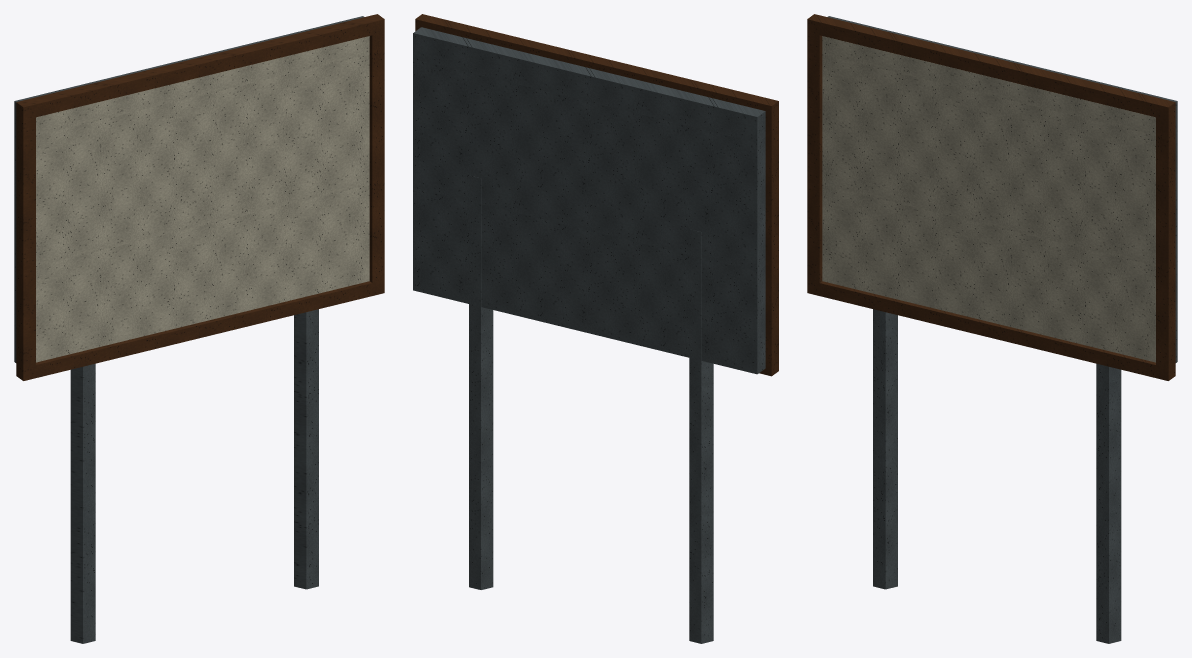
File: PROP-3E7A6A79B8DE_lod2.glb
3 views of the same model, side by side, from view 1: azimuth 30°, elevation 25°; view 2: azimuth 150°, elevation 25°; view 3: azimuth 330°, elevation 25° (orthographic).
Parts seen in each view (by area): view 1: painted_sign_face.011, frame.011, sign_support.011, panel_back.011; view 2: panel_back.011, sign_support.011, frame.011; view 3: painted_sign_face.011, frame.011, sign_support.011, panel_back.011.
Boxes of the visible parts, x1,y1,x2,y2 form: painted_sign_face.011: (36,36,369,362); frame.011: (16,14,384,380); sign_support.011: (70,309,318,643); panel_back.011: (14,16,364,362); panel_back.011: (413,27,765,374); sign_support.011: (469,175,713,643); frame.011: (415,14,778,376); painted_sign_face.011: (822,36,1155,362); frame.011: (807,14,1175,380); sign_support.011: (873,309,1121,643); panel_back.011: (827,16,1177,362).
Bounding box in the file's own units: 2.9 × 4.25 × 0.2166.
3 materials, 3 textured.
